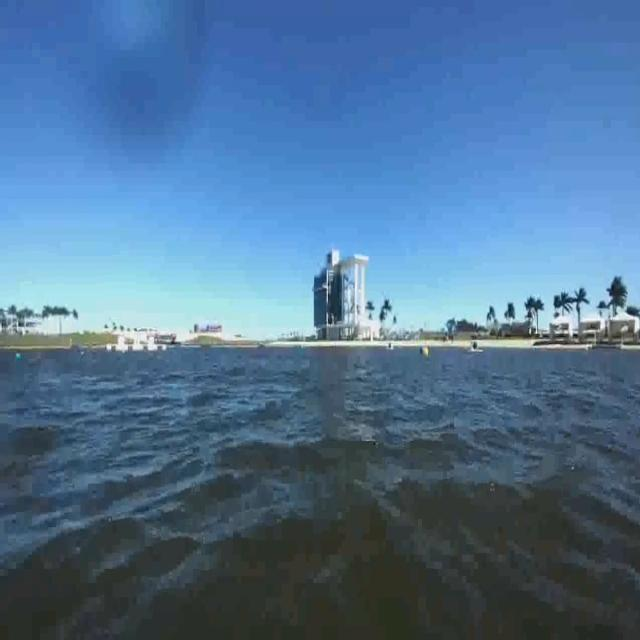yellow-buoy: (423, 346, 430, 358)
